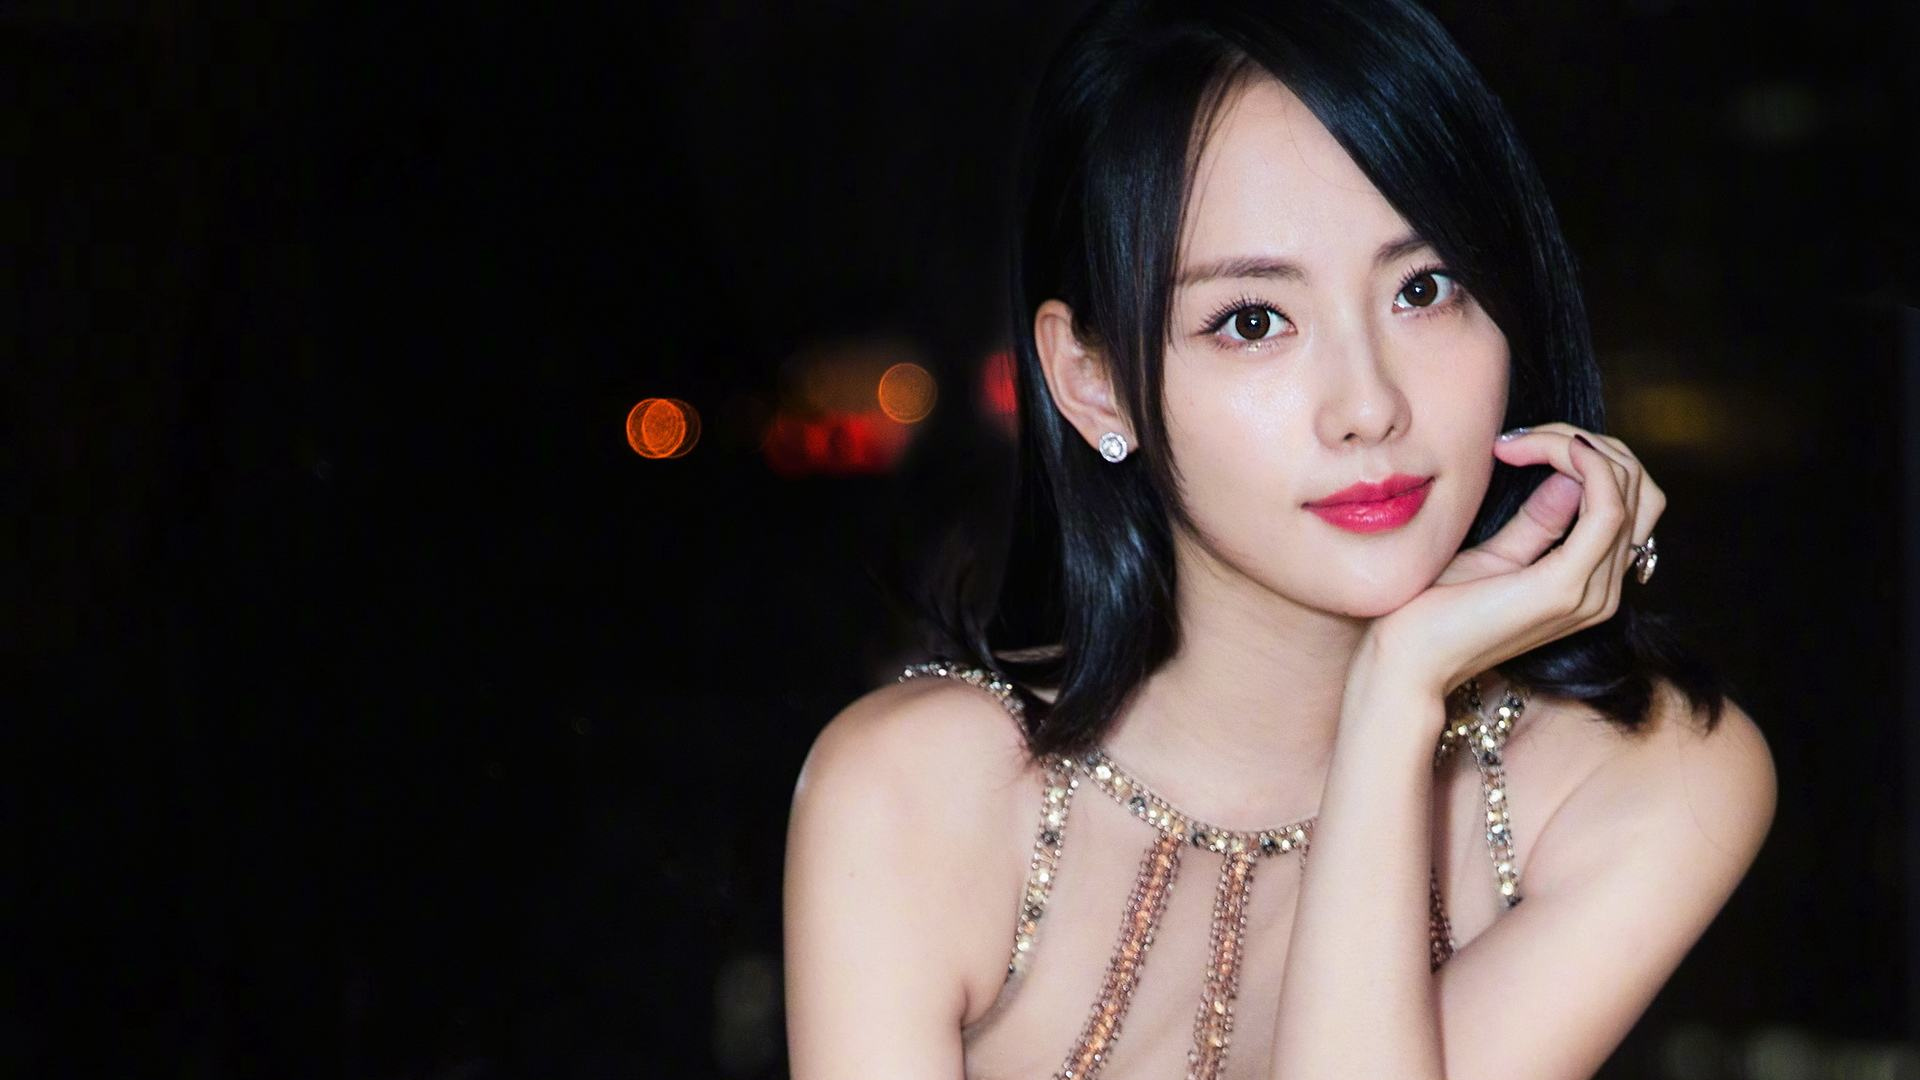person: (820, 69, 1658, 1024)
